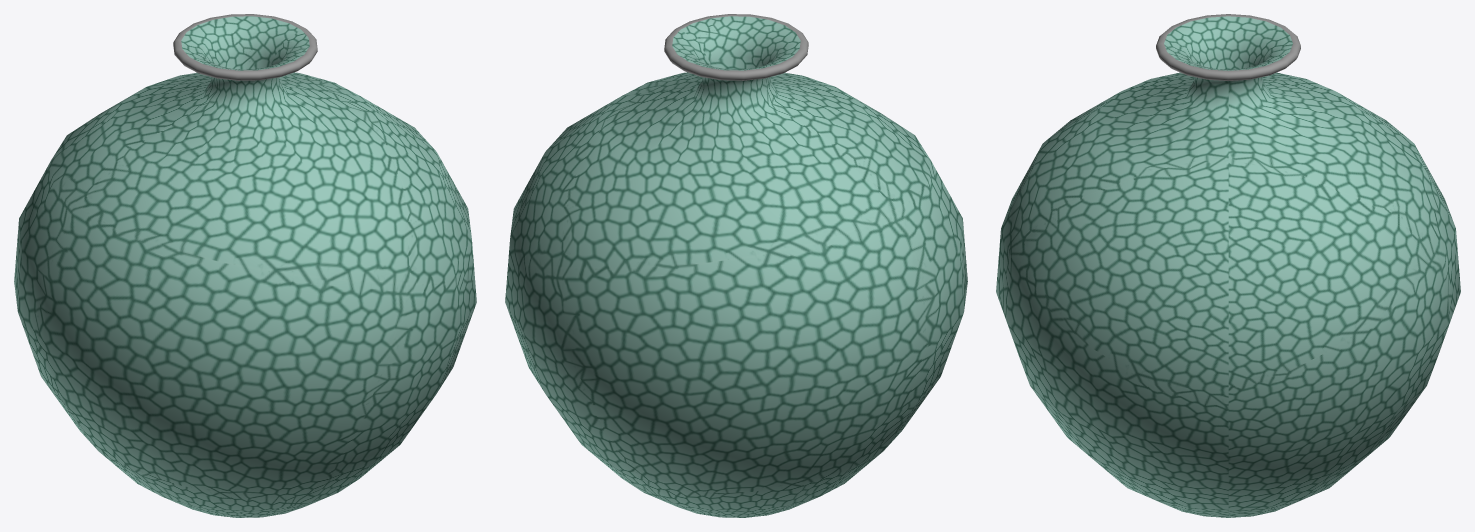
The model's file is LWY31_0501.FBX.
The picture shows the model from 3 angles, left to right: view 1: azimuth 30°, elevation 25°; view 2: azimuth 150°, elevation 25°; view 3: azimuth 270°, elevation 25°; orthographic projection.
Visible parts, largest first — view 1: LWY31; view 2: LWY31; view 3: LWY31.
Boxes of the visible parts, bbox=[...] form: LWY31: bbox=[14, 14, 476, 517]; LWY31: bbox=[505, 14, 967, 517]; LWY31: bbox=[996, 14, 1460, 517].
Size of the model in its own units: 24.02 by 25.13 by 24.02.
